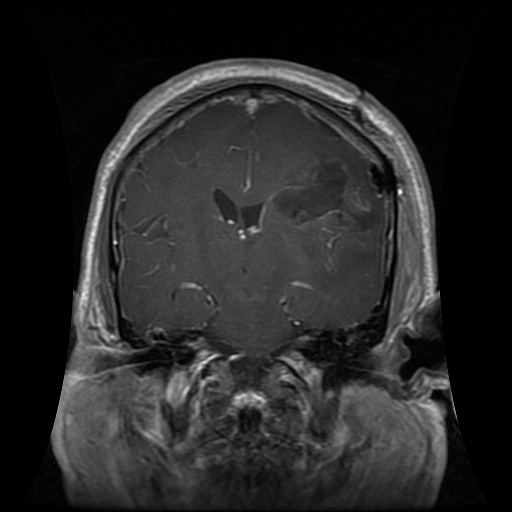glioma: (273, 153, 385, 268)
